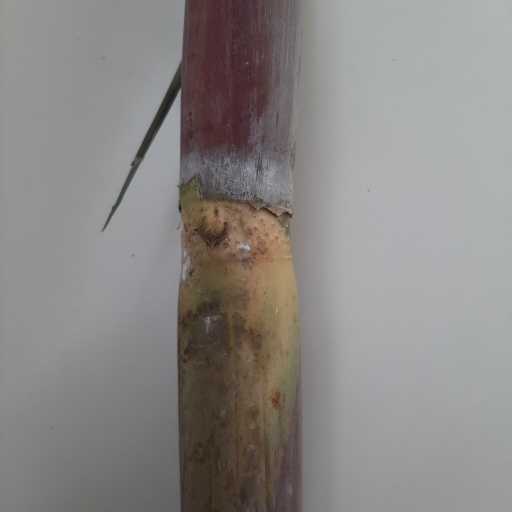Bud: (198, 208, 229, 249)
